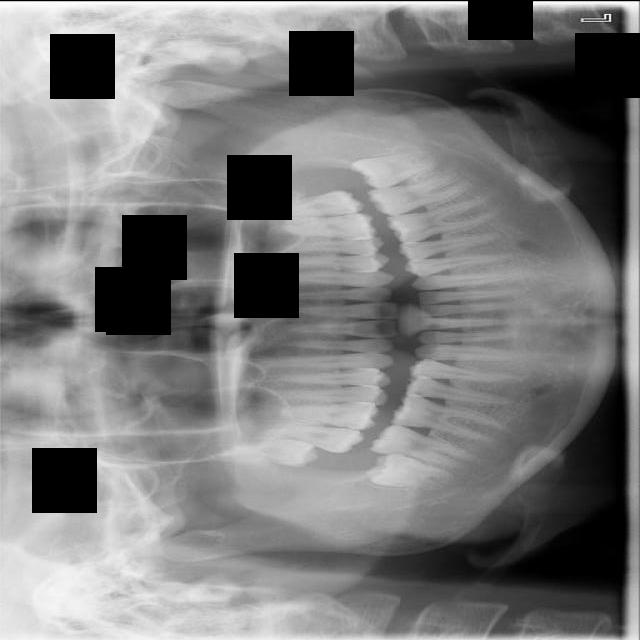3M ESPE Implant: (215, 429, 321, 469)
73: (583, 39, 592, 45)
BioHorizons Implant: (256, 187, 365, 222)
Biomet 3i Implant: (350, 146, 441, 192)
Blue Sky Bio Implant: (366, 167, 476, 220)
Caries: (271, 421, 366, 454)
Implant: (368, 418, 479, 472)
Keystone Dental Implant: (363, 451, 453, 491)
